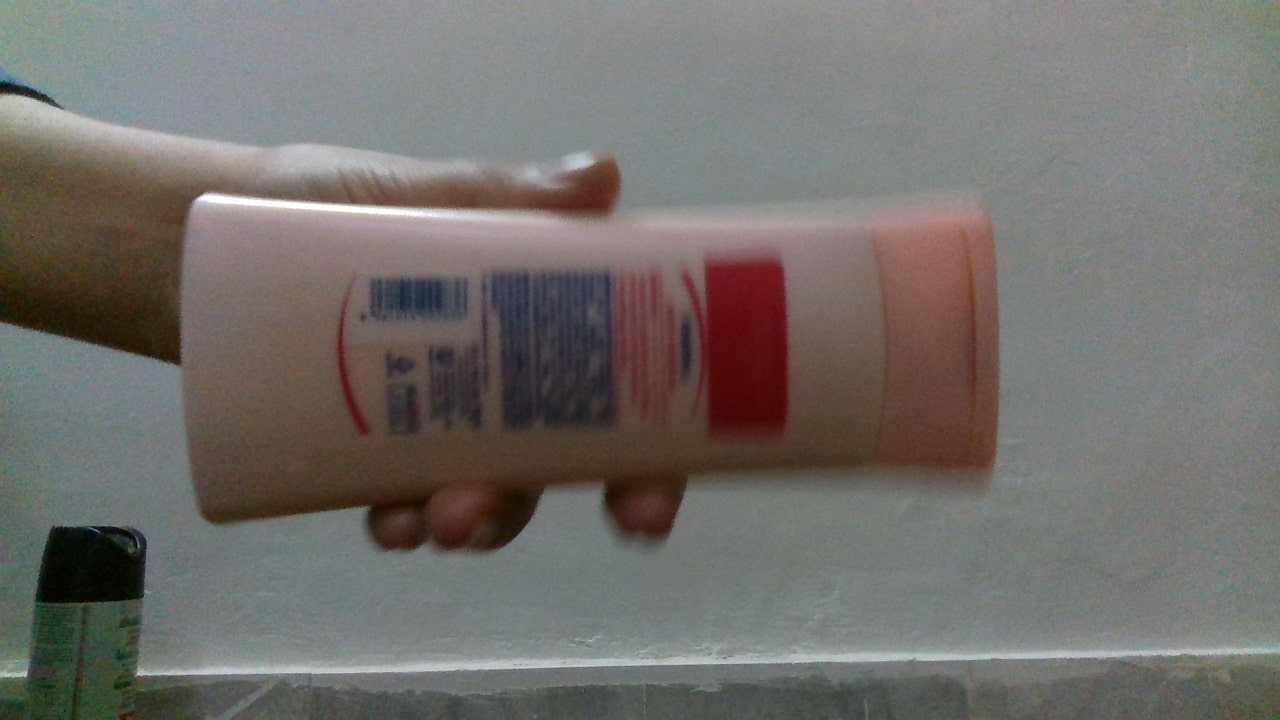Barcode: (368, 275, 473, 325)
